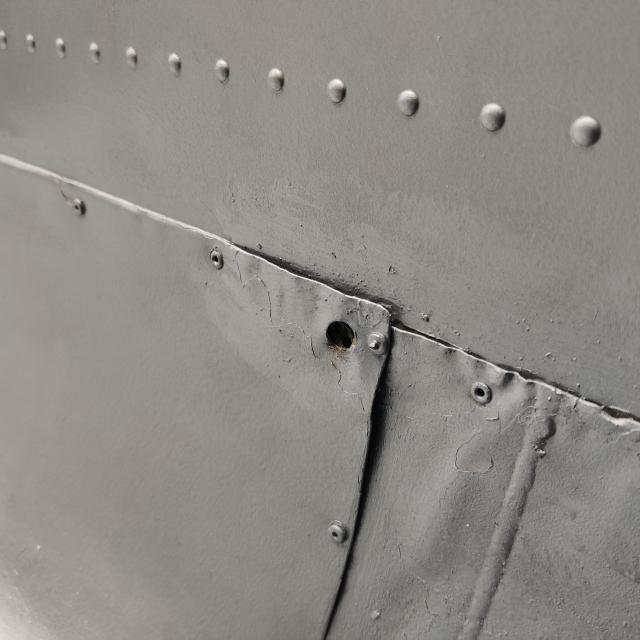missing-head: (290, 277, 397, 388)
